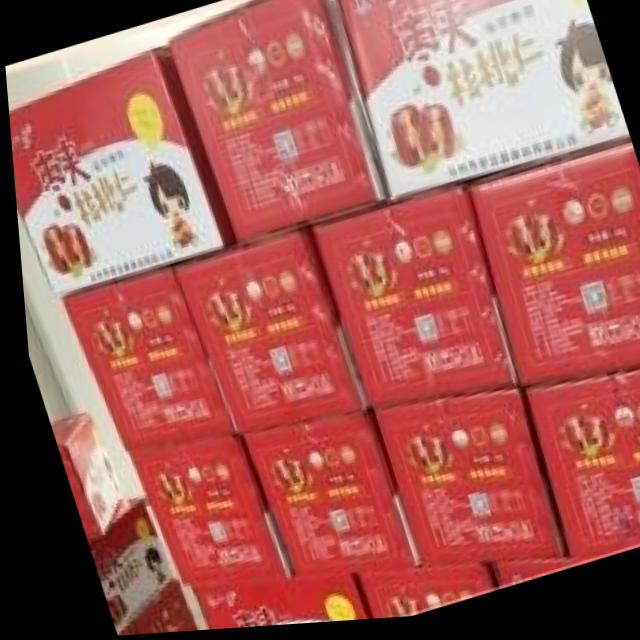box: (335, 0, 628, 208), (7, 46, 230, 299), (167, 0, 383, 249), (306, 192, 512, 412), (462, 153, 640, 394), (168, 228, 362, 439), (366, 397, 556, 568), (55, 268, 228, 455), (234, 414, 410, 578), (121, 439, 282, 586), (518, 377, 640, 565), (92, 499, 189, 635), (180, 577, 357, 632), (43, 412, 112, 543), (341, 568, 487, 623), (78, 539, 129, 637), (481, 564, 595, 595)
